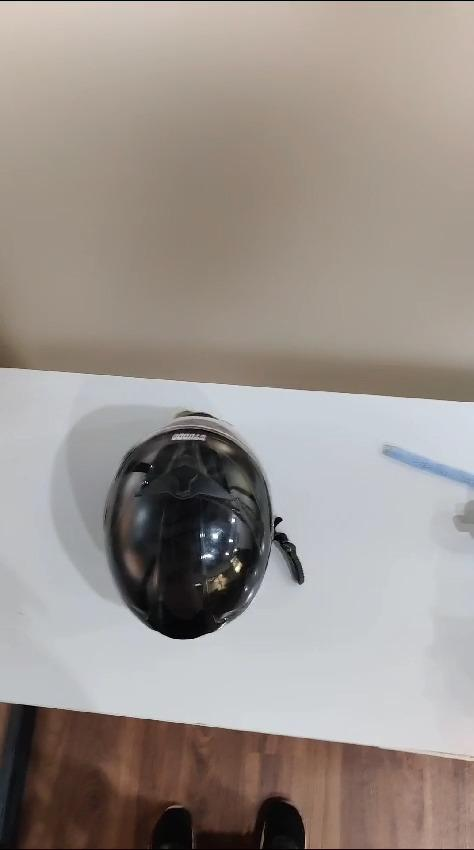Helmet: (82, 408, 295, 655)
